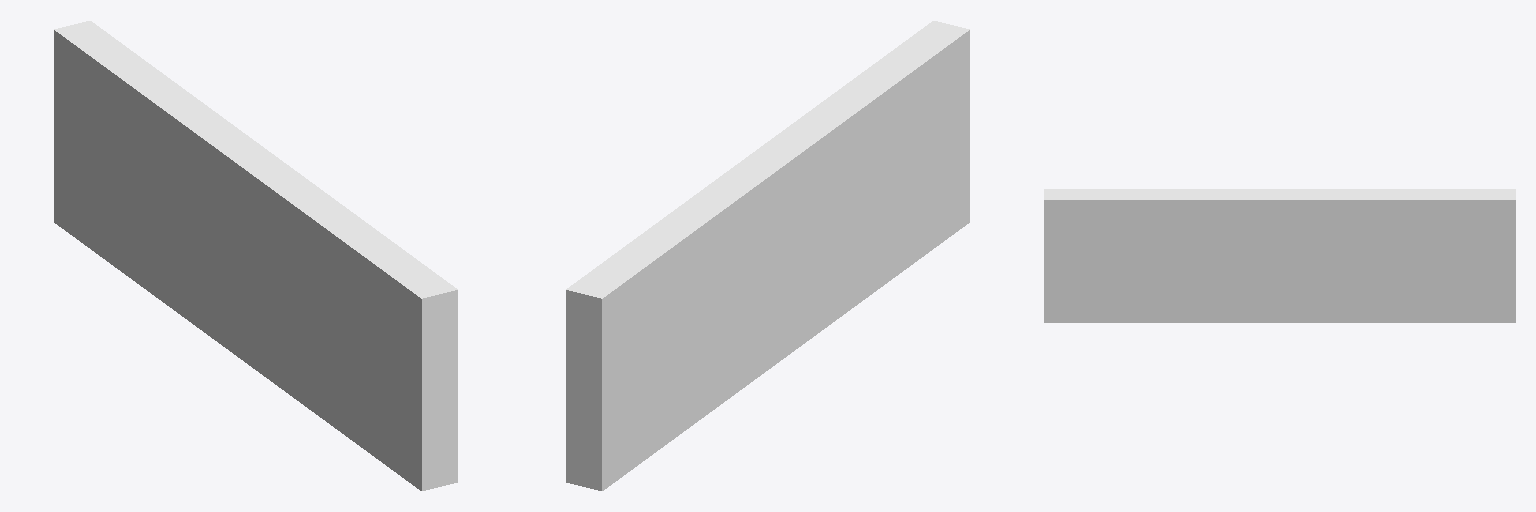
The robot description file, URDF, robot "side_boundary_xieku.SLDPRT":
<?xml version="1.0" encoding="utf-8"?>
<!-- This URDF was automatically created by SolidWorks to URDF Exporter! Originally created by [author] ([email redacted]) 
     Commit Version: 1.5.1-0-g916b5db  Build Version: 1.5.7152.31018
     For more information, please see http://wiki.ros.org/sw_urdf_exporter -->
<robot
  name="side_boundary_xieku.SLDPRT">
  <link
    name="side_boundary_xieku.SLDPRT">
    <inertial>
      <origin
        xyz="0.01 -0.173 0.05"
        rpy="0 0 0" />
      <mass
        value="0.692" />
      <inertia
        ixx="0.0074803"
        ixy="1.0883E-18"
        ixz="3.88140000000007E-21"
        iyy="0.00059973"
        iyz="3.87402383122179E-19"
        izz="0.0069267" />
    </inertial>
    <visual>
      <origin
        xyz="0 0 0"
        rpy="1.5707963267949 0 0" />
      <geometry>
        <mesh
          filename="package://side_boundary_xieku.SLDPRT/meshes/side_boundary_xieku.SLDPRT.STL" />
      </geometry>
      <material
        name="">
        <color
          rgba="1 1 1 1" />
        <texture
          filename="package://side_boundary_xieku.SLDPRT/textures/" />
      </material>
    </visual>
    <collision>
      <origin
        xyz="0 0 0"
        rpy="1.5707963267949 0 0" />
      <geometry>
        <mesh
          filename="package://side_boundary_xieku.SLDPRT/meshes/side_boundary_xieku.SLDPRT.STL" />
      </geometry>
    </collision>
  </link>
</robot>

--- Render facts (derived) ---
3 views of the same robot in one strip: view 1: azimuth 30°, elevation 25°; view 2: azimuth 150°, elevation 25°; view 3: azimuth 270°, elevation 25° (orthographic).
Model side_boundary_xieku.SLDPRT with 1 links and 0 joints (none), rooted at side_boundary_xieku.SLDPRT, posed all joints at 0.
Visible links, largest first — view 1: side_boundary_xieku.SLDPRT; view 2: side_boundary_xieku.SLDPRT; view 3: side_boundary_xieku.SLDPRT.
Link boxes in pixels (x1=…): side_boundary_xieku.SLDPRT: x1=54, y1=21, x2=457, y2=490; side_boundary_xieku.SLDPRT: x1=566, y1=21, x2=969, y2=490; side_boundary_xieku.SLDPRT: x1=1044, y1=189, x2=1515, y2=322.
Size in the robot's own frame: 0.02 by 0.346 by 0.1 metres.
Meshes: 1 distinct files referenced, 1 mesh visuals loaded (1 binary STL).